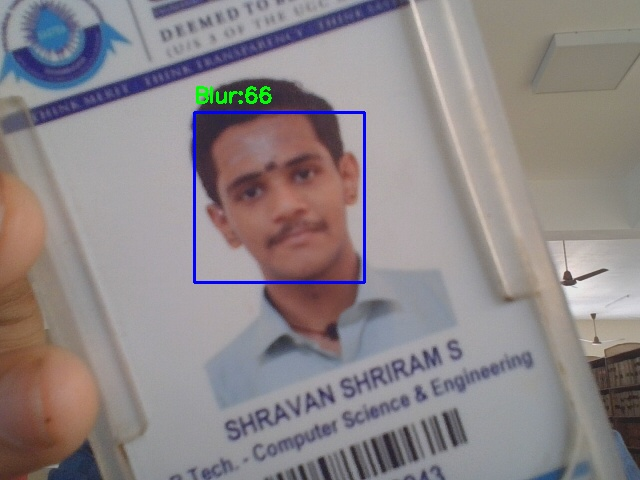fake: (194, 112, 364, 282)
